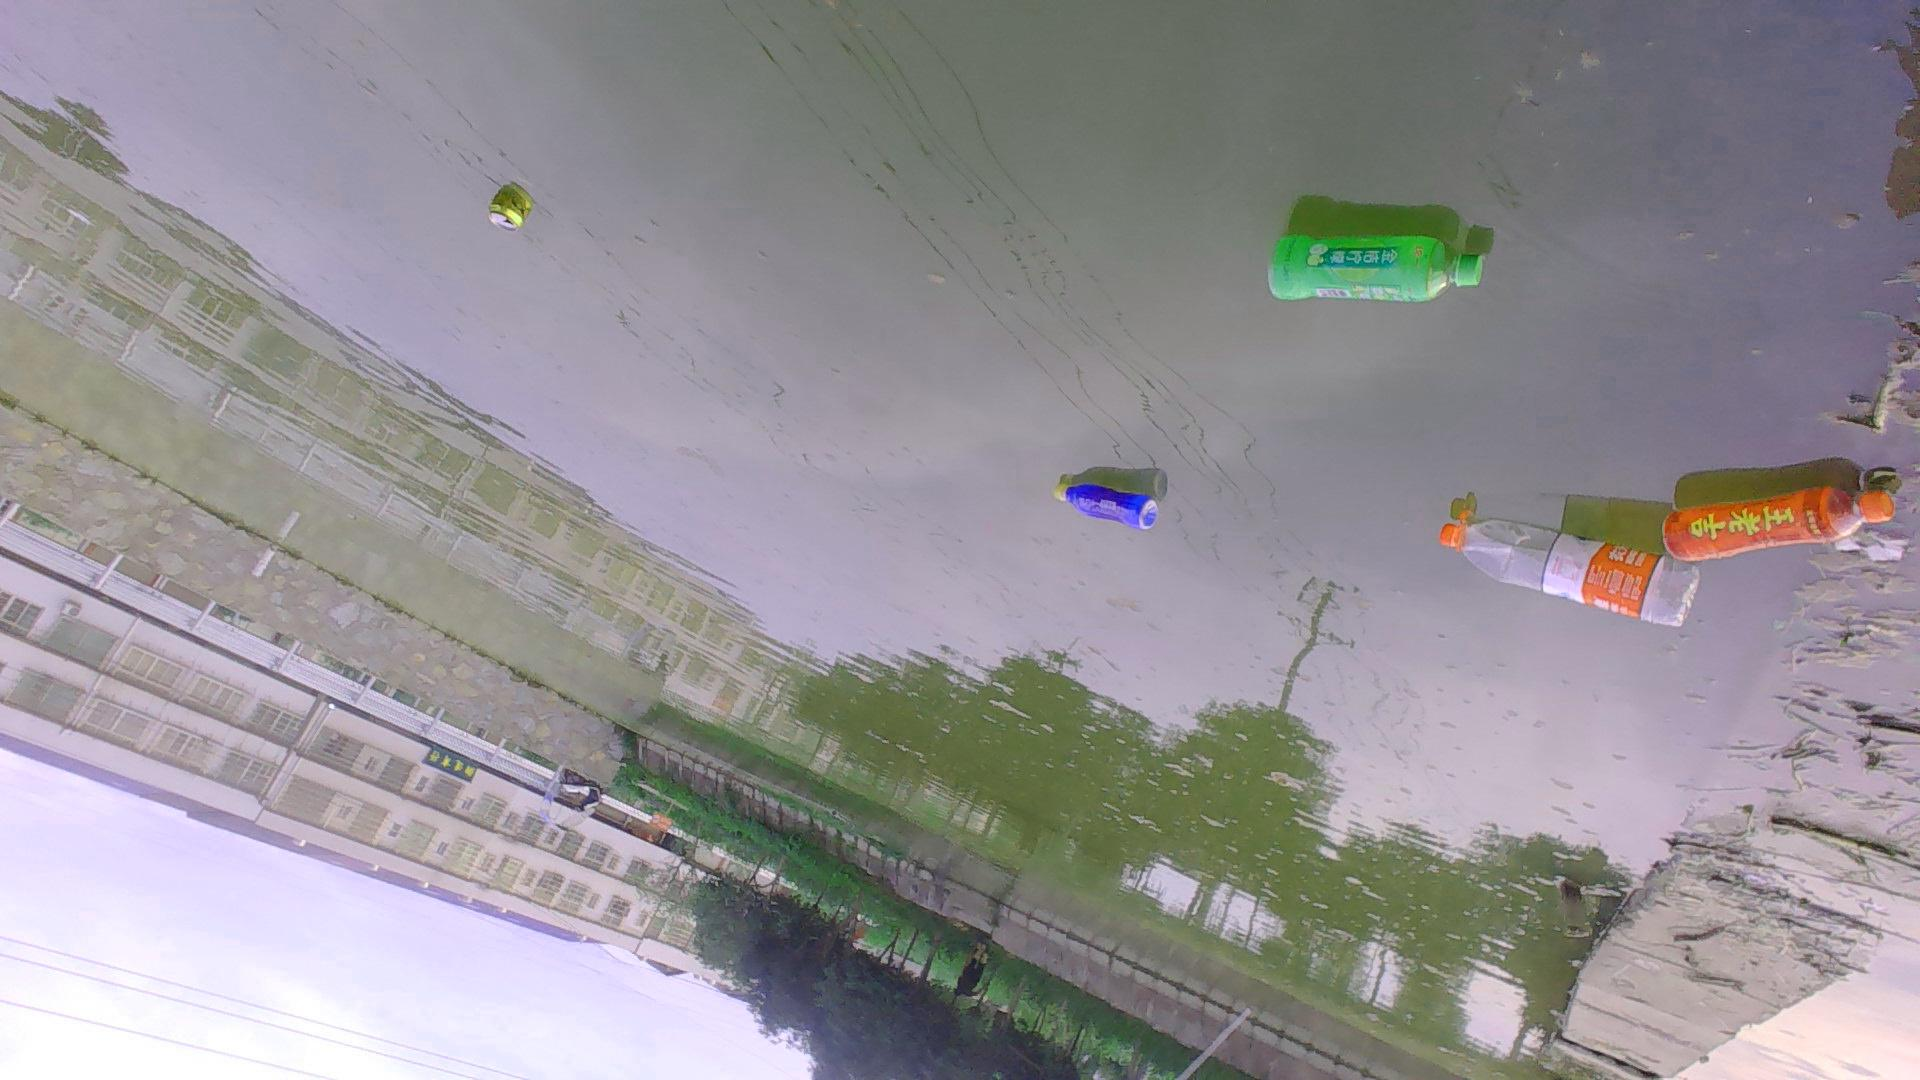Plastic: (1432, 509, 1700, 635), (1666, 484, 1904, 570), (1260, 225, 1489, 313), (1050, 469, 1169, 546), (478, 181, 541, 243)
